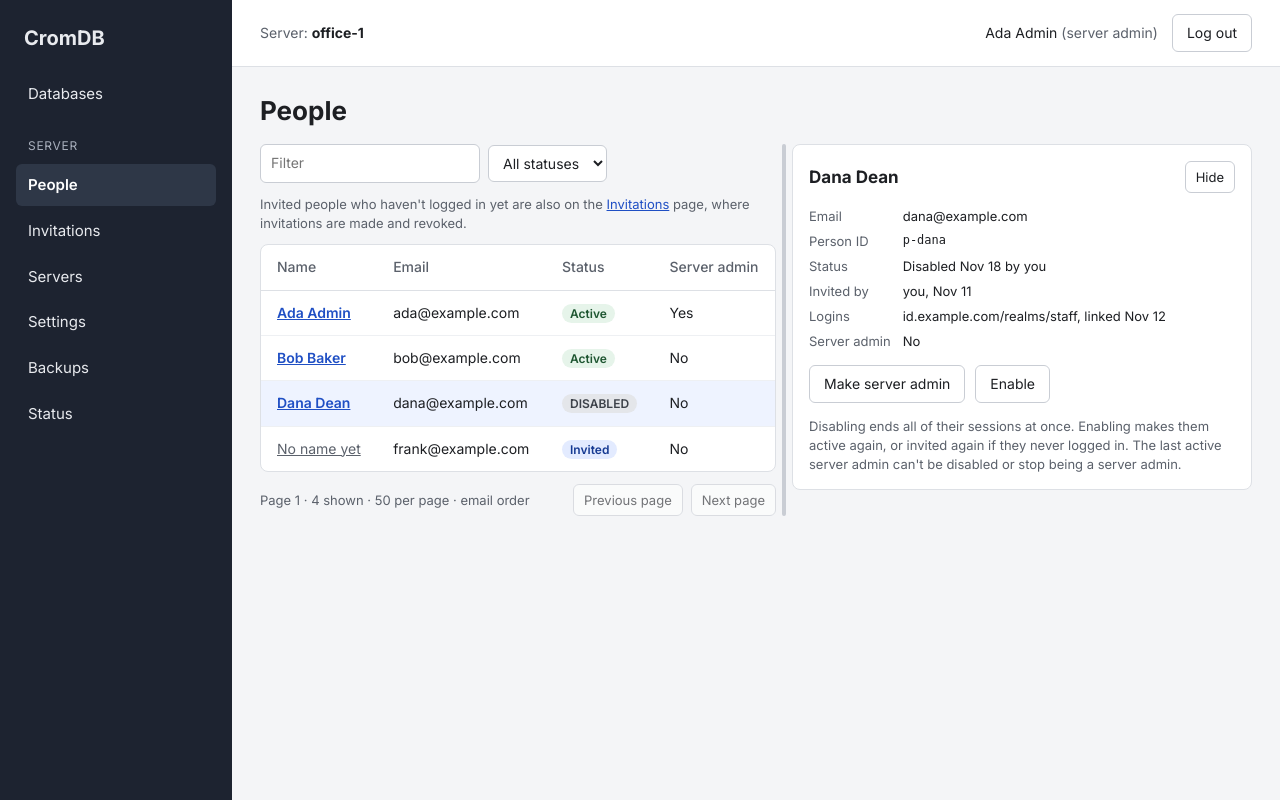
it: People › enables someone without asking
The image size is (1280, 800).
Expected: the text "Disabled Nov 18 by you" is shown, [903,258,1046,274]
Click the button "Enable" at (1013, 384), box [975,364,1050,403]
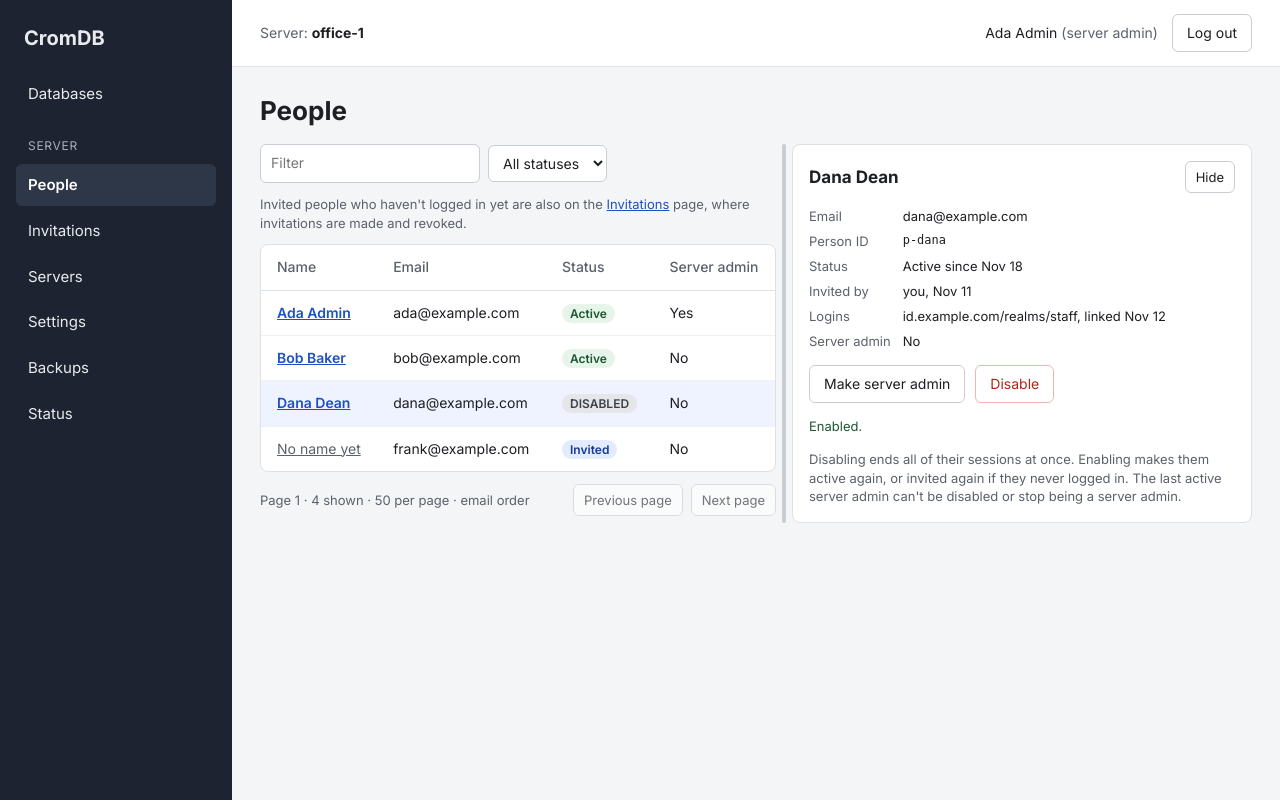
Expected: the text "Enabled." is shown, [809,418,862,434]
